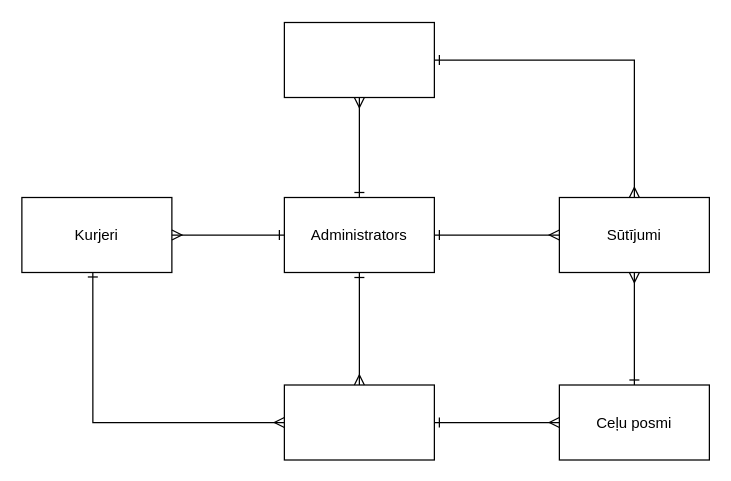
This 731x481 diagram has some shape labels left out. The box of each missing label's shape, as (x1, y1, x2, y2) in pixels:
Maršruti: (283, 384, 434, 460)
Noliktavas: (283, 21, 434, 98)
